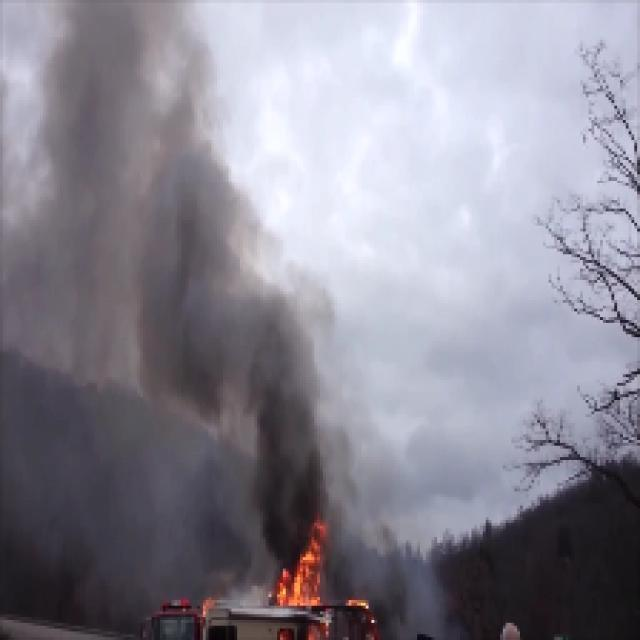Fire: (292, 548, 322, 603)
Smoke: (150, 222, 238, 380), (256, 390, 312, 528)
